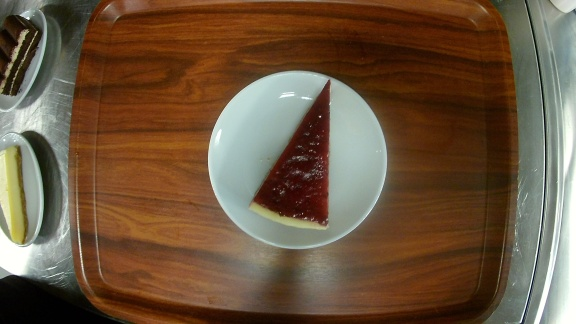frambuazlipasta: (209, 70, 389, 249)
